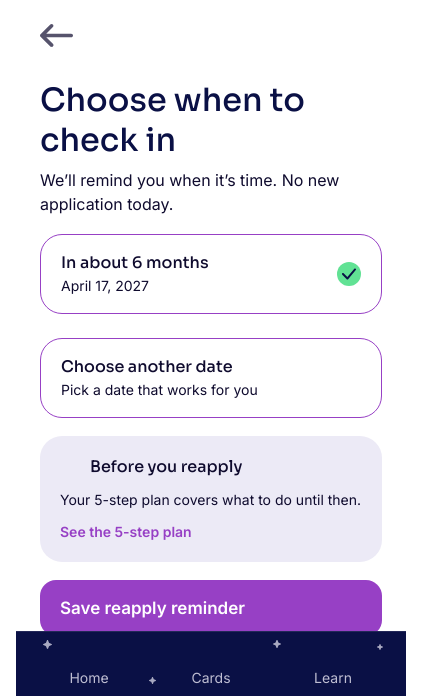
it: ReminderSetup › refuses today, and saves nothing
The width and height of the screenshot is (423, 696).
Click the button "Choose another date Pick a date that works for you" at x=211, y=378, box [40, 338, 382, 418]
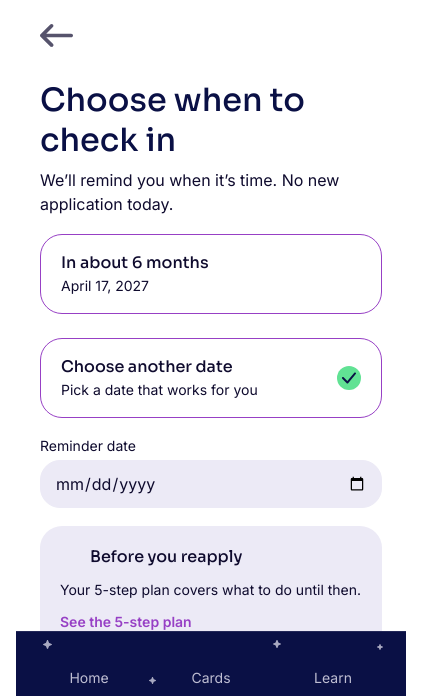
Type "2026-10-17" into the date field labelled "Reminder date" at x=211, y=484, box [40, 460, 382, 508]
(page scrolled)
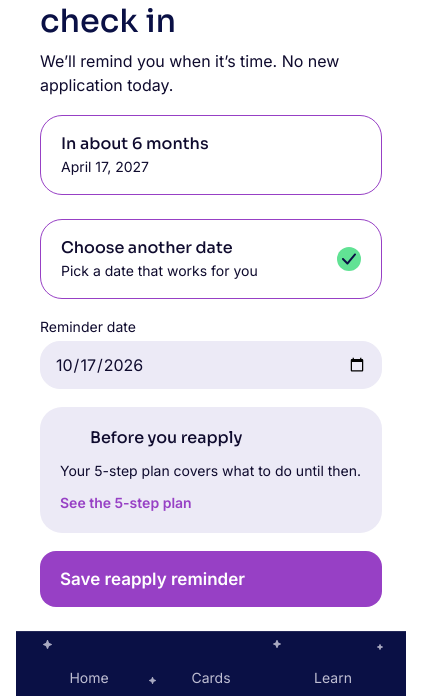
Click the button "Save reapply reminder" at x=211, y=579, box [40, 551, 382, 607]
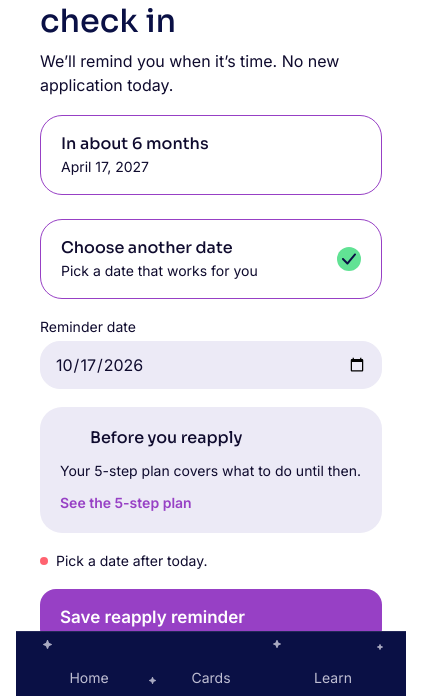
Result: the message reads "Pick a date after today." at [56, 552, 208, 569]
